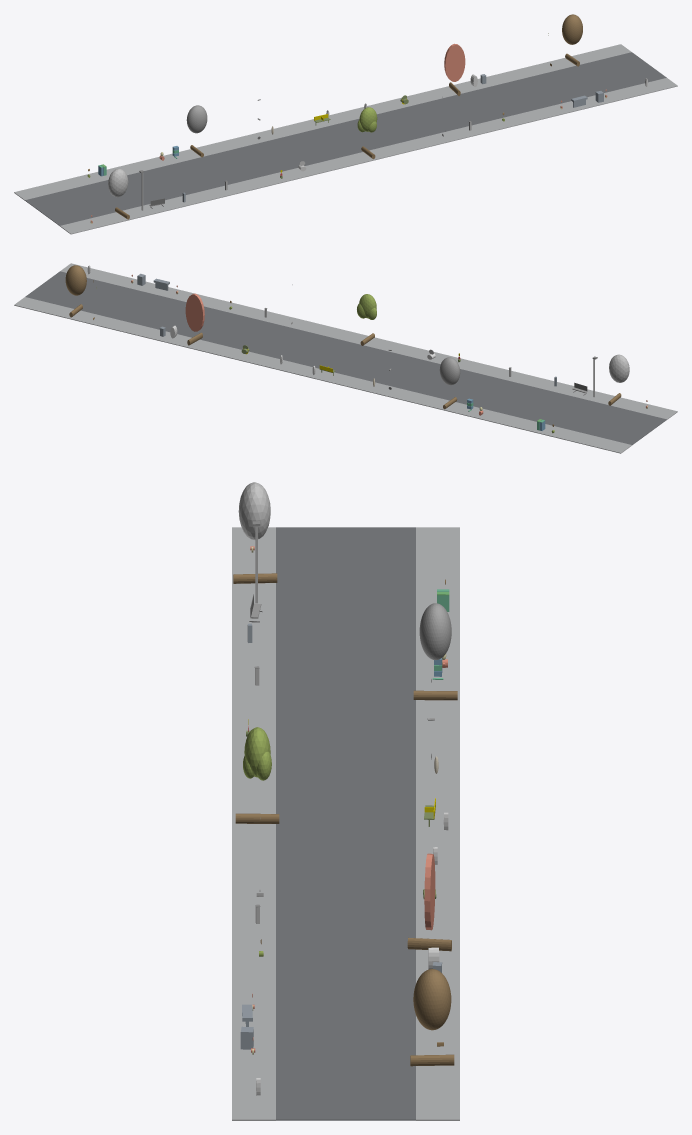
3 views of the same model, one above another, from view 1: azimuth 30°, elevation 25°; view 2: azimuth 150°, elevation 25°; view 3: azimuth 270°, elevation 25° (orthographic). The views are drawn at different scales.
Visible parts, largest first — view 1: road_slab, sidewalk_left, sidewalk_right, inst_0015, inst_0016, inst_0012, inst_0013, inst_0014; view 2: road_slab, sidewalk_right, sidewalk_left, inst_0015, inst_0016, inst_0012, inst_0013, inst_0014; view 3: road_slab, sidewalk_left, sidewalk_right, inst_0016, inst_0013, inst_0012, inst_0014, inst_0015.
Boxes of the visible parts, x1=… form: road_slab: x1=25, y1=52, x2=666, y2=225; sidewalk_left: x1=60, y1=78, x2=677, y2=234; sidewalk_right: x1=14, y1=44, x2=631, y2=200; inst_0015: x1=444, y1=43, x2=465, y2=95; inst_0016: x1=562, y1=14, x2=582, y2=66; inst_0012: x1=108, y1=168, x2=129, y2=219; inst_0013: x1=186, y1=105, x2=207, y2=157; inst_0014: x1=357, y1=107, x2=377, y2=159; road_slab: x1=25, y1=271, x2=666, y2=445; sidewalk_right: x1=14, y1=297, x2=631, y2=453; sidewalk_left: x1=60, y1=263, x2=677, y2=419; inst_0015: x1=185, y1=293, x2=204, y2=345; inst_0016: x1=65, y1=265, x2=86, y2=317; inst_0012: x1=608, y1=354, x2=629, y2=405; inst_0013: x1=439, y1=357, x2=460, y2=409; inst_0014: x1=357, y1=294, x2=376, y2=345; road_slab: x1=276, y1=527, x2=415, y2=1120; sidewalk_left: x1=232, y1=527, x2=275, y2=1120; sidewalk_right: x1=416, y1=527, x2=459, y2=1120; inst_0016: x1=410, y1=969, x2=454, y2=1066; inst_0013: x1=413, y1=603, x2=457, y2=700; inst_0012: x1=233, y1=482, x2=277, y2=583; inst_0014: x1=235, y1=727, x2=279, y2=823; inst_0015: x1=407, y1=853, x2=451, y2=951.
Size of the model in its own units: 80 by 6.08 by 13.
